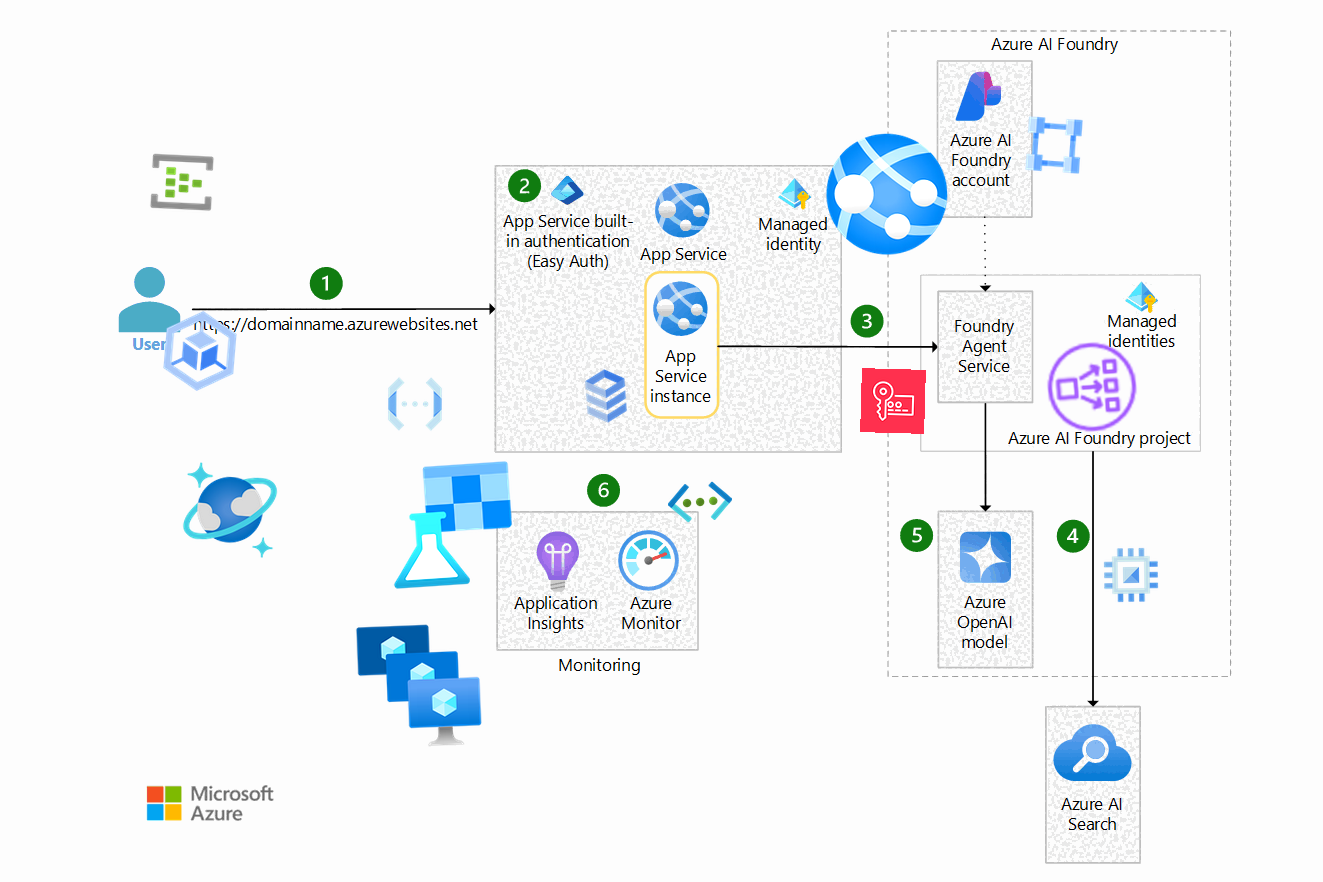aws_elastic_load_balancing_network_load_balancer: (1040, 335, 1144, 439)
aws_key_management_service: (860, 368, 926, 434)
azure_app_services: (818, 125, 956, 263)
azure_cosmos_db: (178, 458, 282, 562)
azure_event_hubs: (148, 148, 216, 216)
azure_machine_learning_studio_workspaces: (382, 456, 520, 594)
azure_virtual_networks: (665, 467, 735, 537)
azure_vm_scale_sets: (350, 616, 484, 750)
gcp_cloud_functions: (382, 371, 448, 437)
gcp_cloud_sql: (571, 361, 641, 431)
gcp_compute_engine: (1098, 542, 1164, 608)
gcp_google_kubernetes_engine: (148, 299, 252, 403)
gcp_virtual_private_cloud: (1019, 110, 1089, 180)
